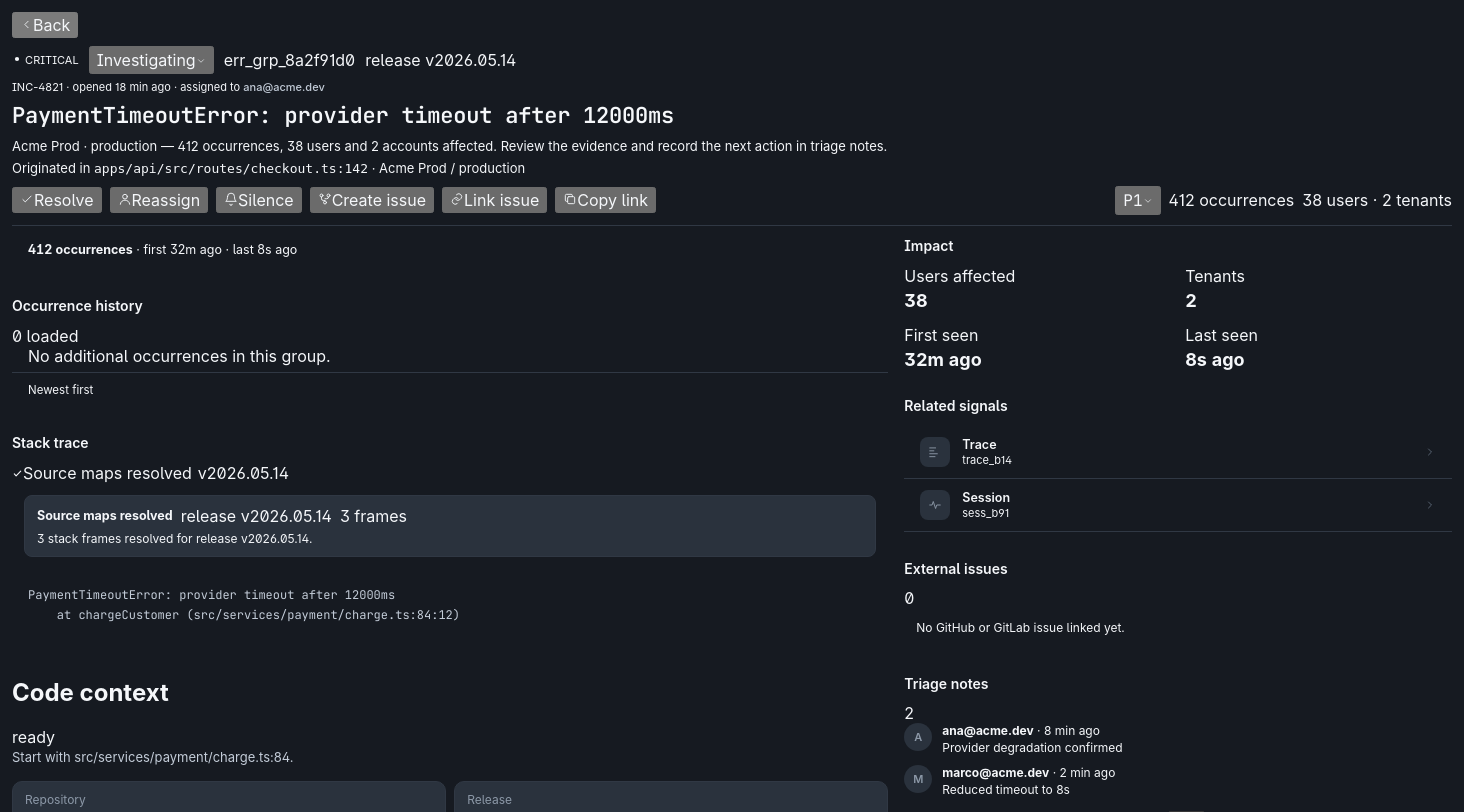
Test: IncidentScreen › action bar — Resolve › shows confirm label after first click (two-step)
This screenshot has width=1464, height=812.
Click the button "Resolve": (57, 200) [12,187,102,213]
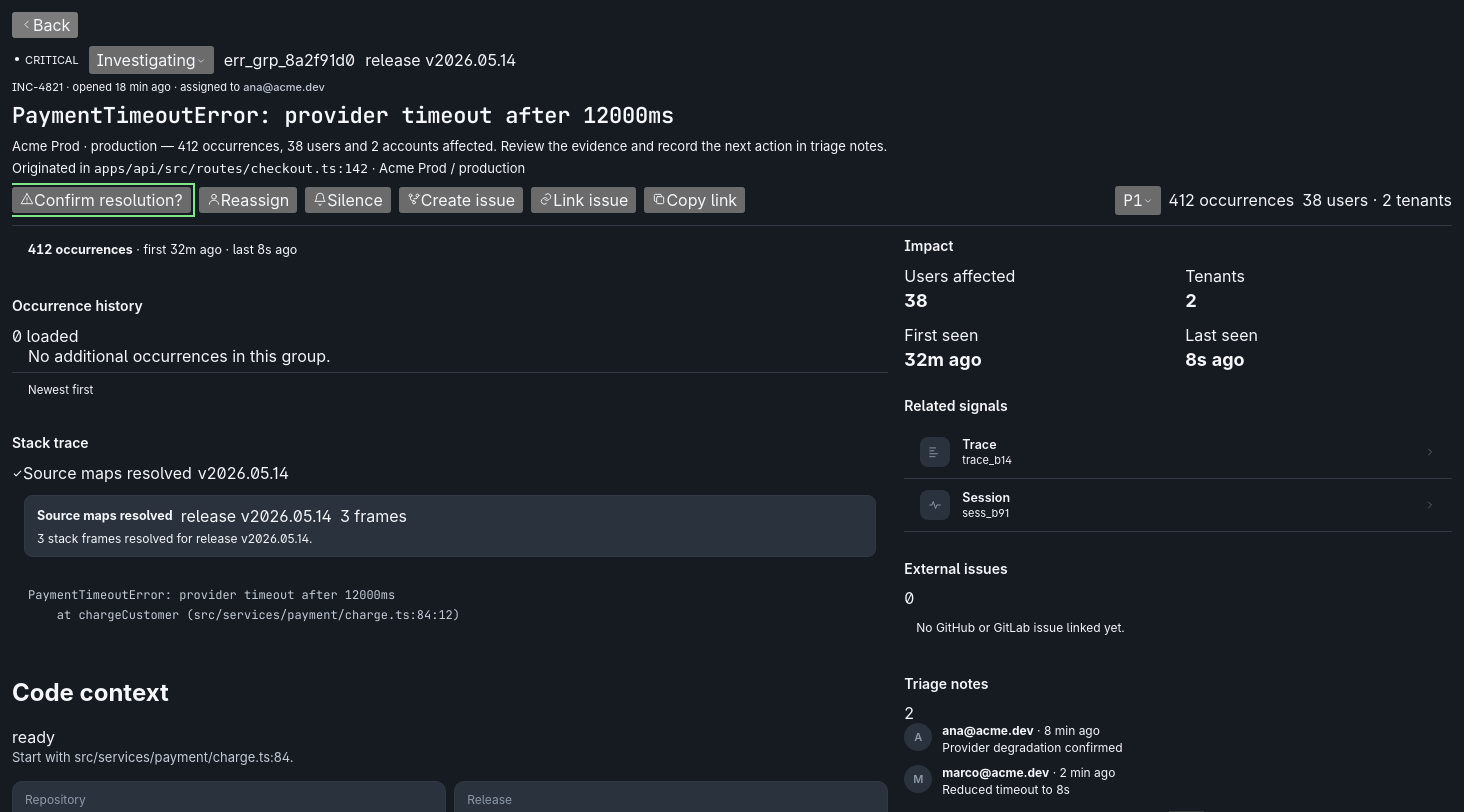
Expected: the button "Confirm resolution?" is shown, [12,187,191,213]
